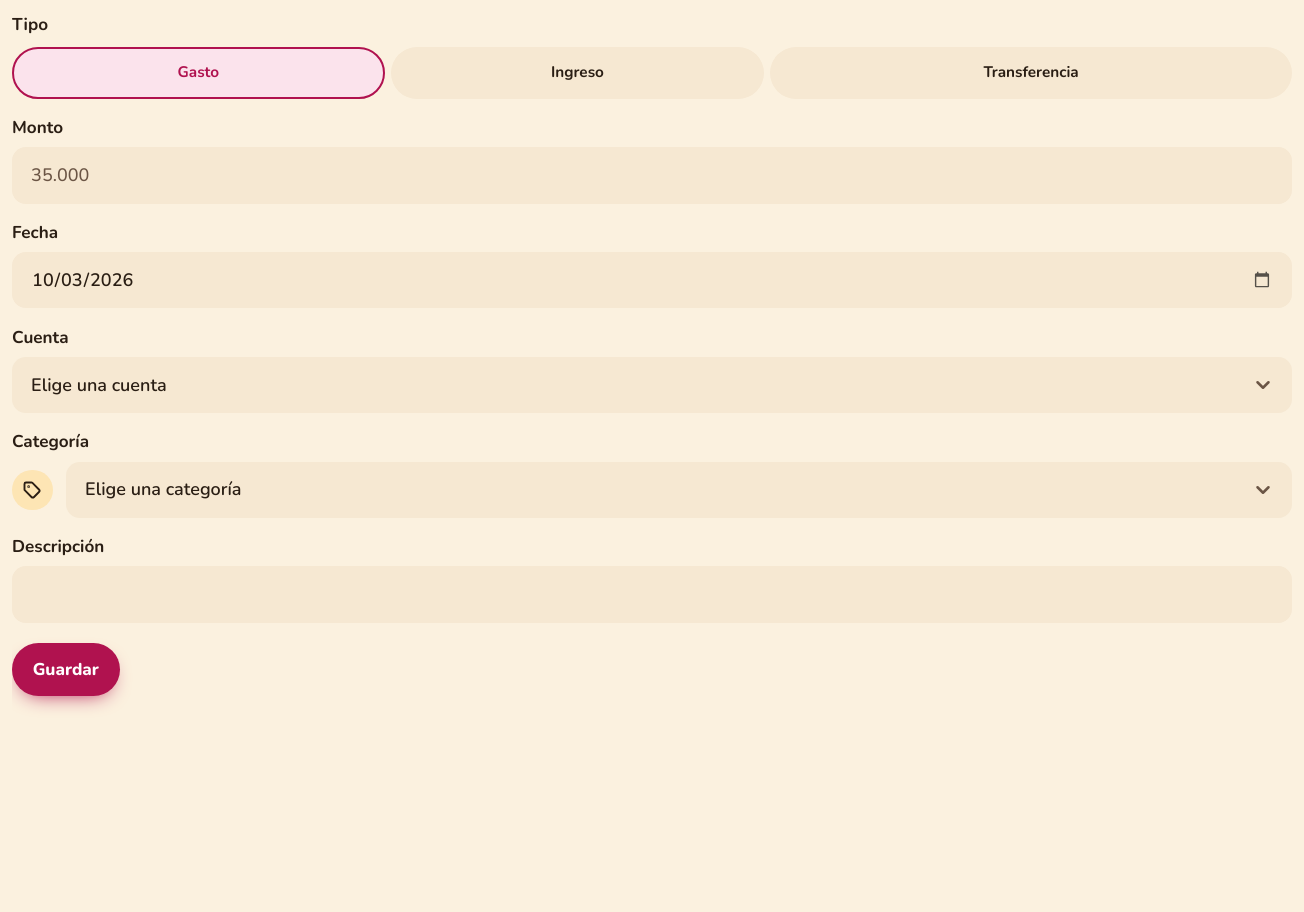
Test: TransactionForm › validates before submitting
Type "35,5" into the field labelled "Monto" at (652, 176), box [12,147,1292,204]
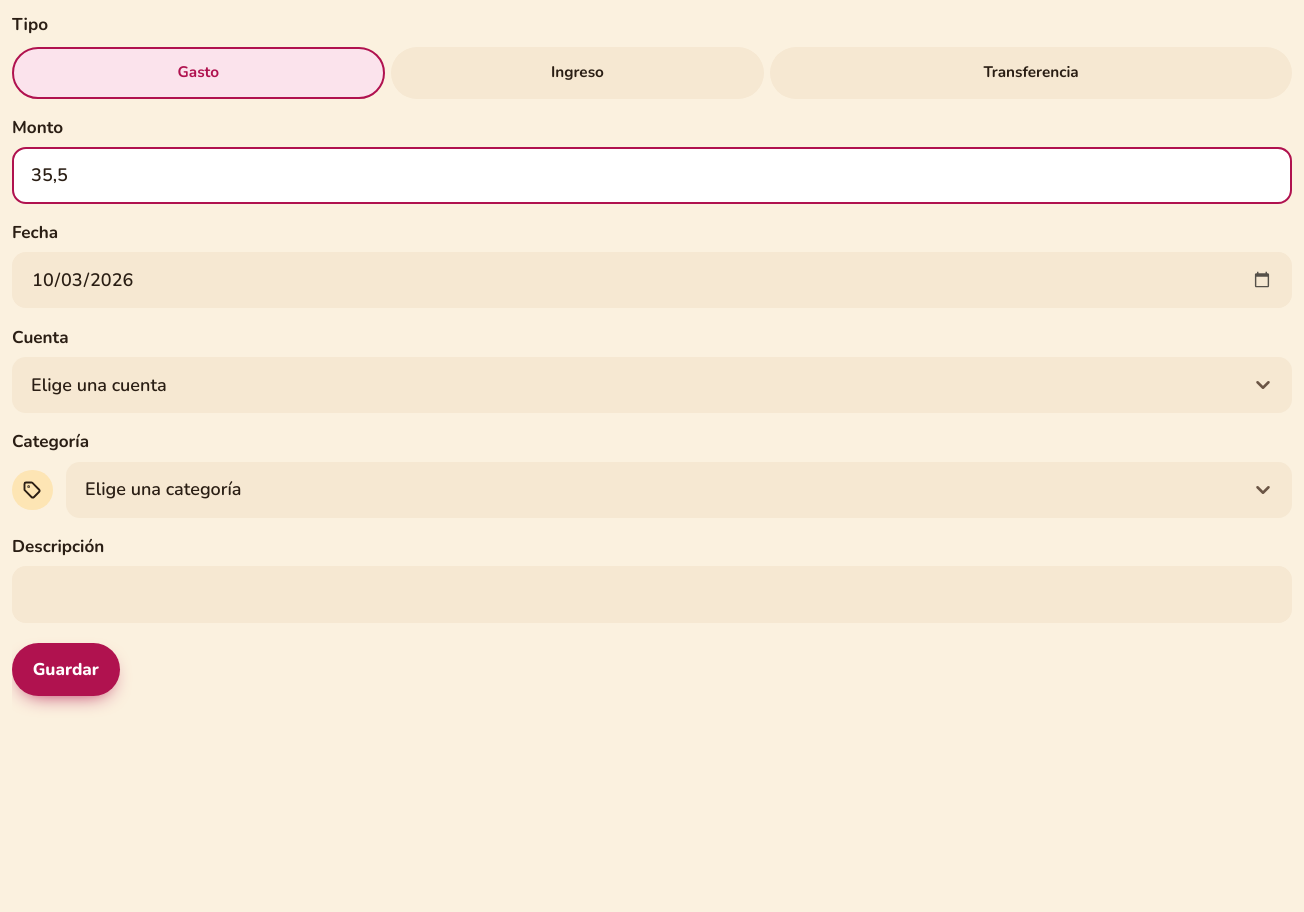
Click the button "Guardar" at (66, 669), box [12,643,120,696]
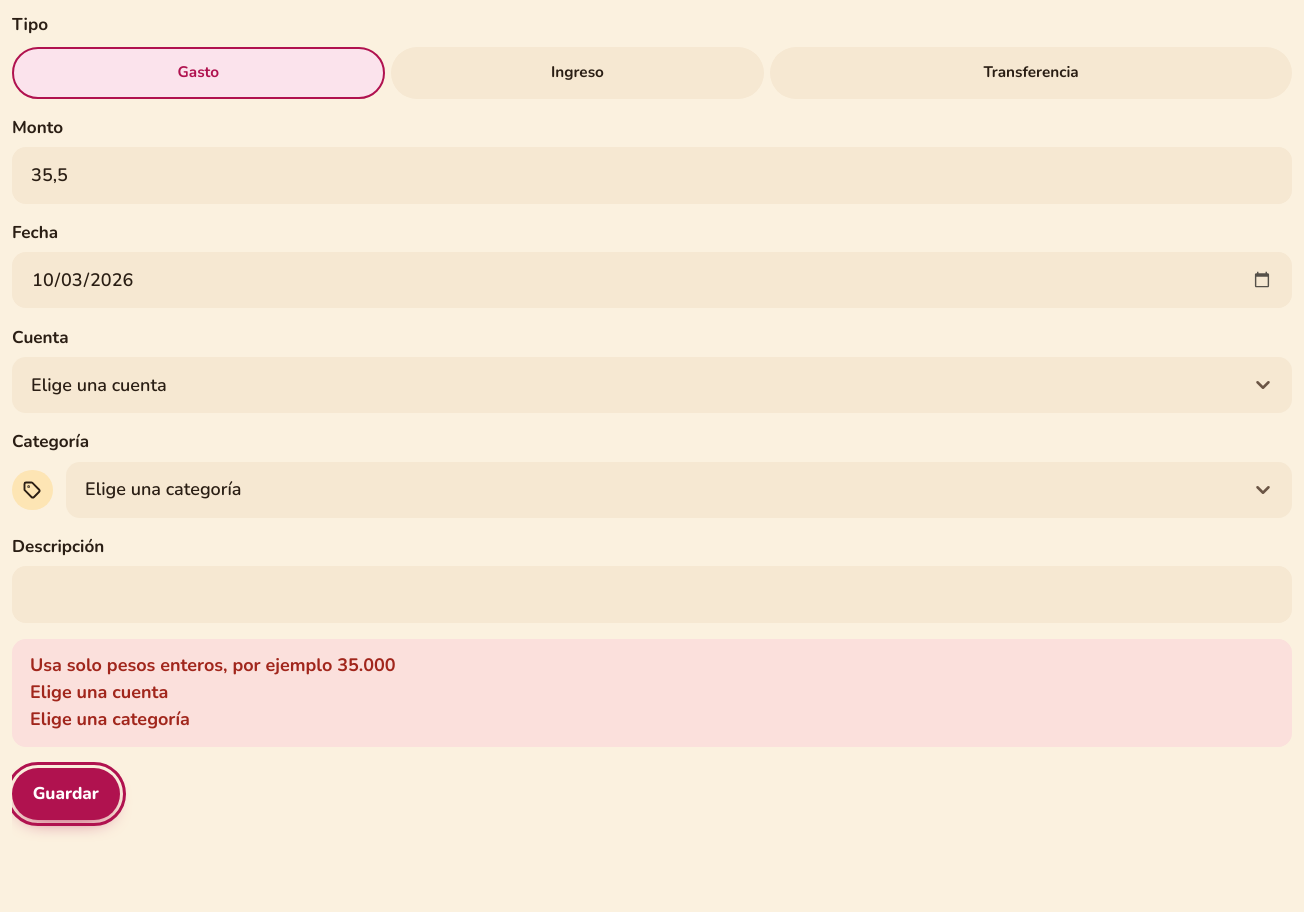
Expected: the message shows "Usa solo pesos enteros", [30,653,396,677]
Expected: the message shows "Elige una cuenta", [30,680,168,704]
Expected: the message shows "Elige una categoría", [30,707,190,731]
